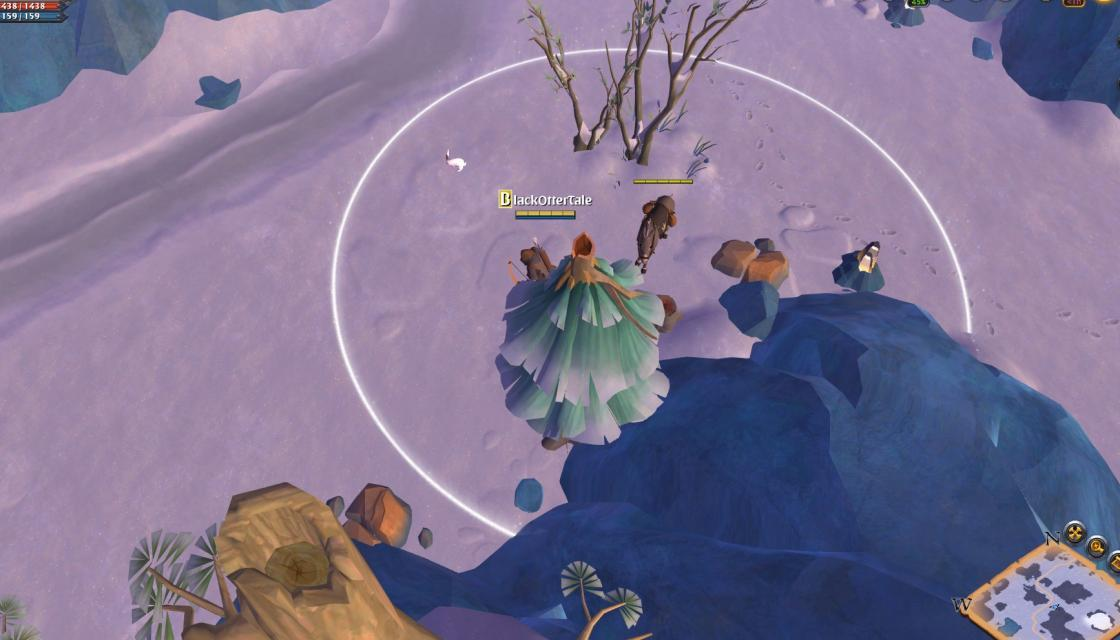copperore: (830, 235, 888, 292)
limestone: (327, 481, 418, 549), (710, 231, 794, 289)
